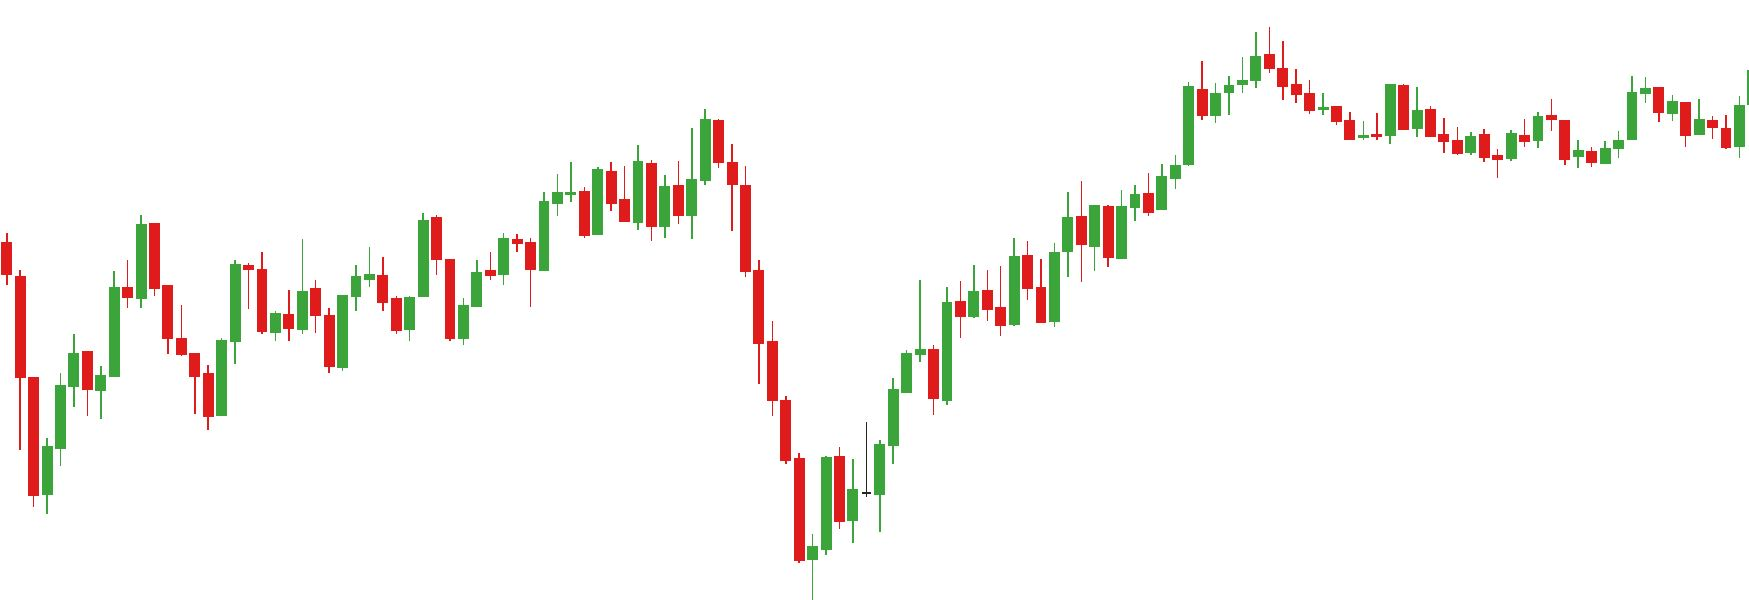buy: (80, 267, 228, 428)
